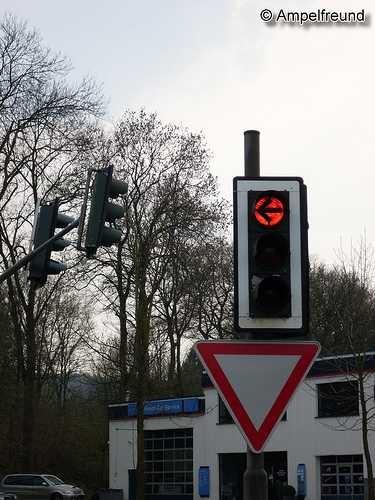red: (236, 173, 307, 332), (242, 188, 292, 226)
